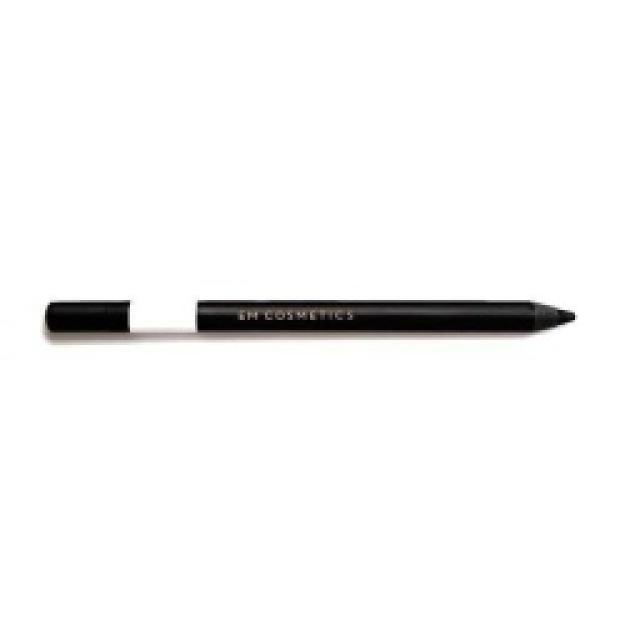pencil: (40, 292, 578, 340)
